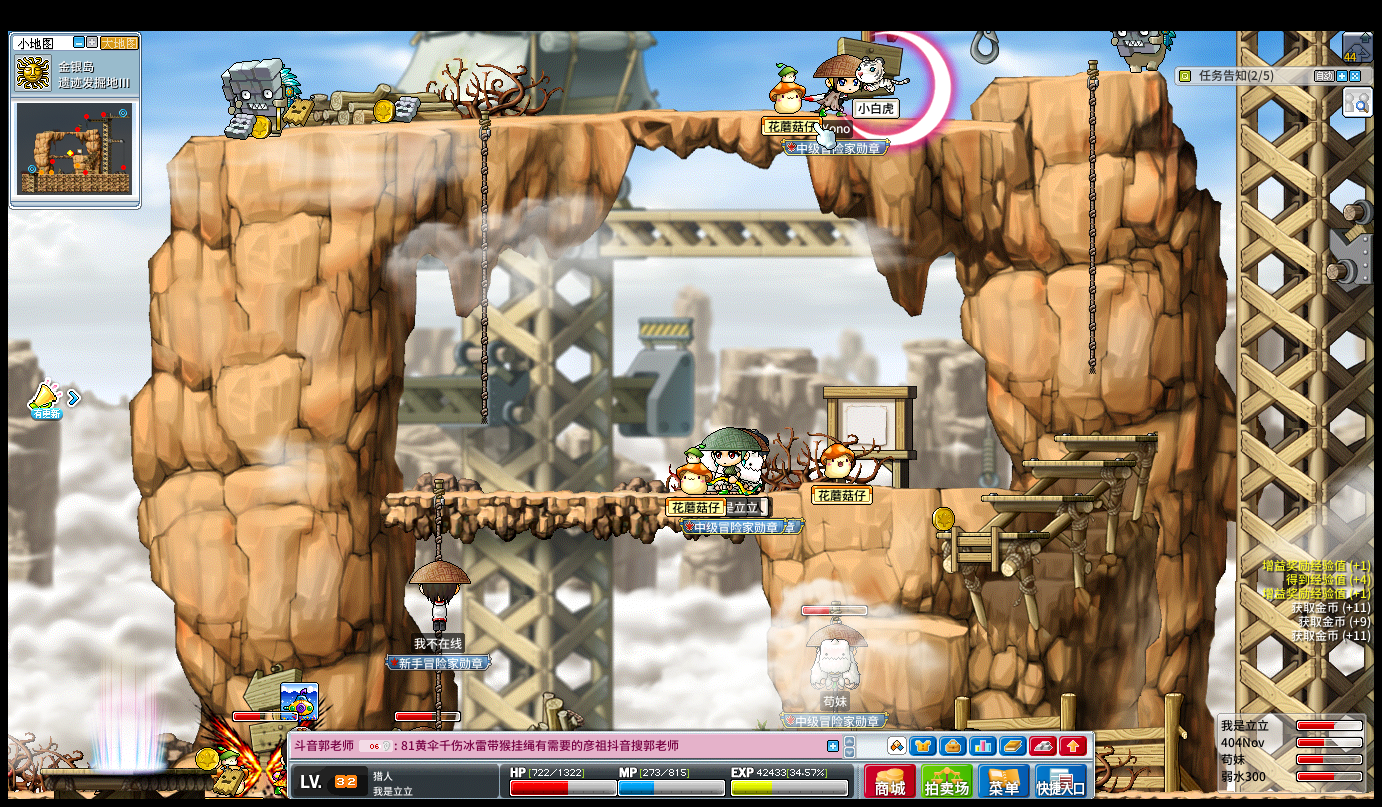floor: (187, 107, 1025, 140), (378, 490, 798, 502), (849, 615, 968, 637), (990, 69, 1162, 82), (1053, 434, 1159, 447), (877, 484, 1018, 493), (931, 530, 1049, 539), (980, 494, 1093, 502), (1019, 459, 1129, 467)
monster: (223, 57, 300, 141), (1113, 27, 1166, 73)
rope: (478, 110, 491, 429), (1087, 54, 1099, 378), (430, 477, 445, 560)
